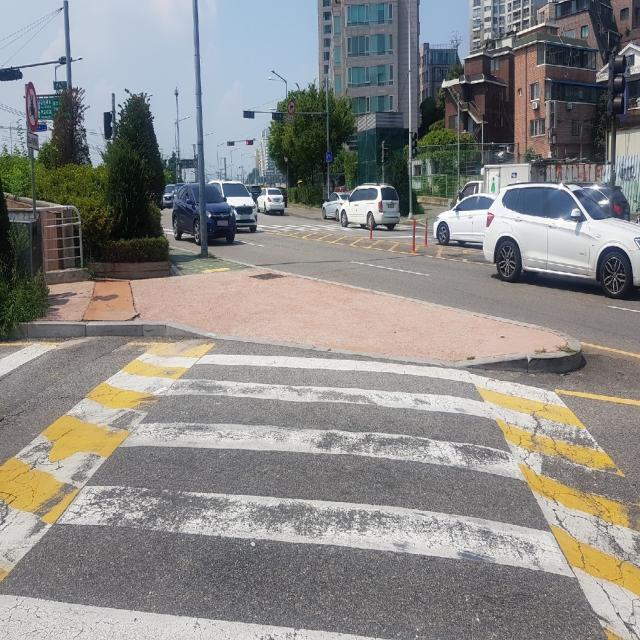횡단보도: (0, 349, 579, 640)
